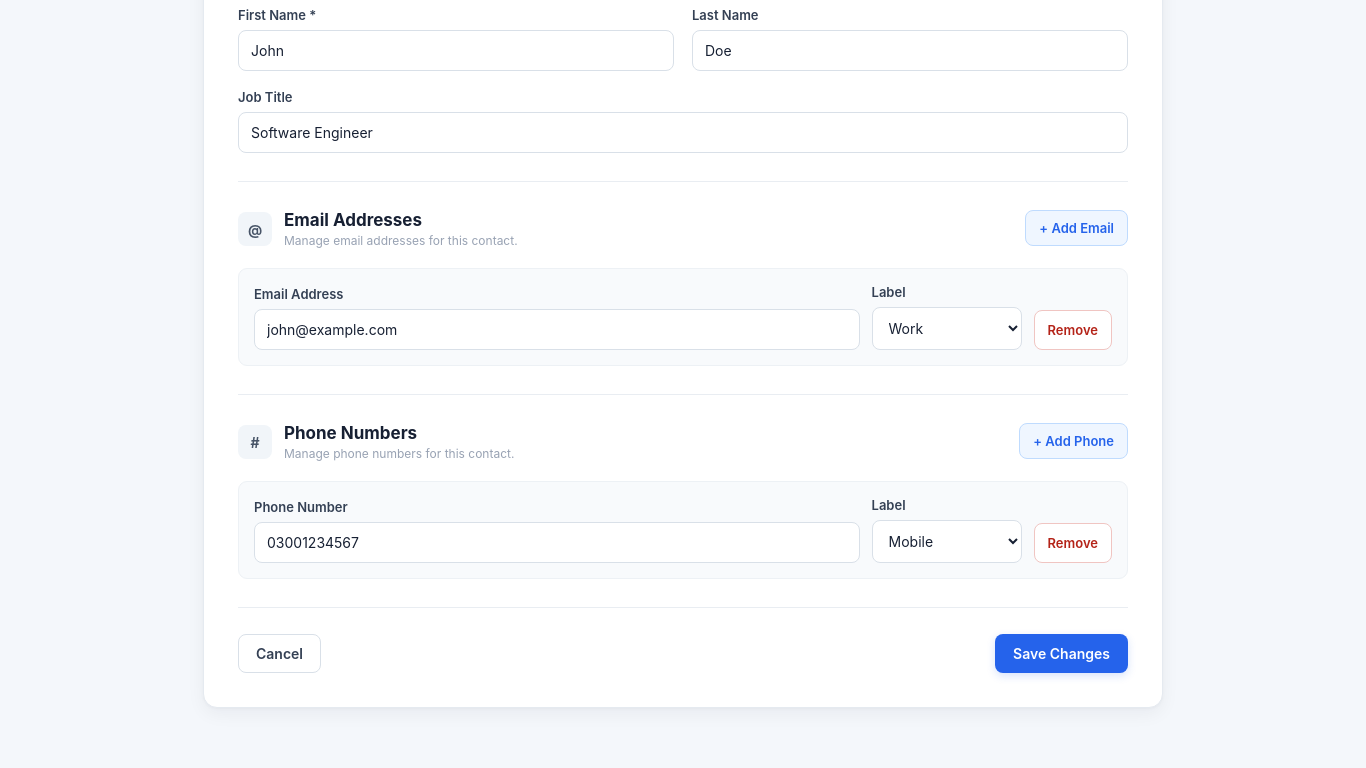
Test: EditContact › handles unauthorized update
The width and height of the screenshot is (1366, 768).
(page scrolled)
Expected: the field showing "John" is shown, [238,30,674,71]
Click the button "Save Changes". click: click(1062, 654)
box: [995,634,1128,673]
(page scrolled)
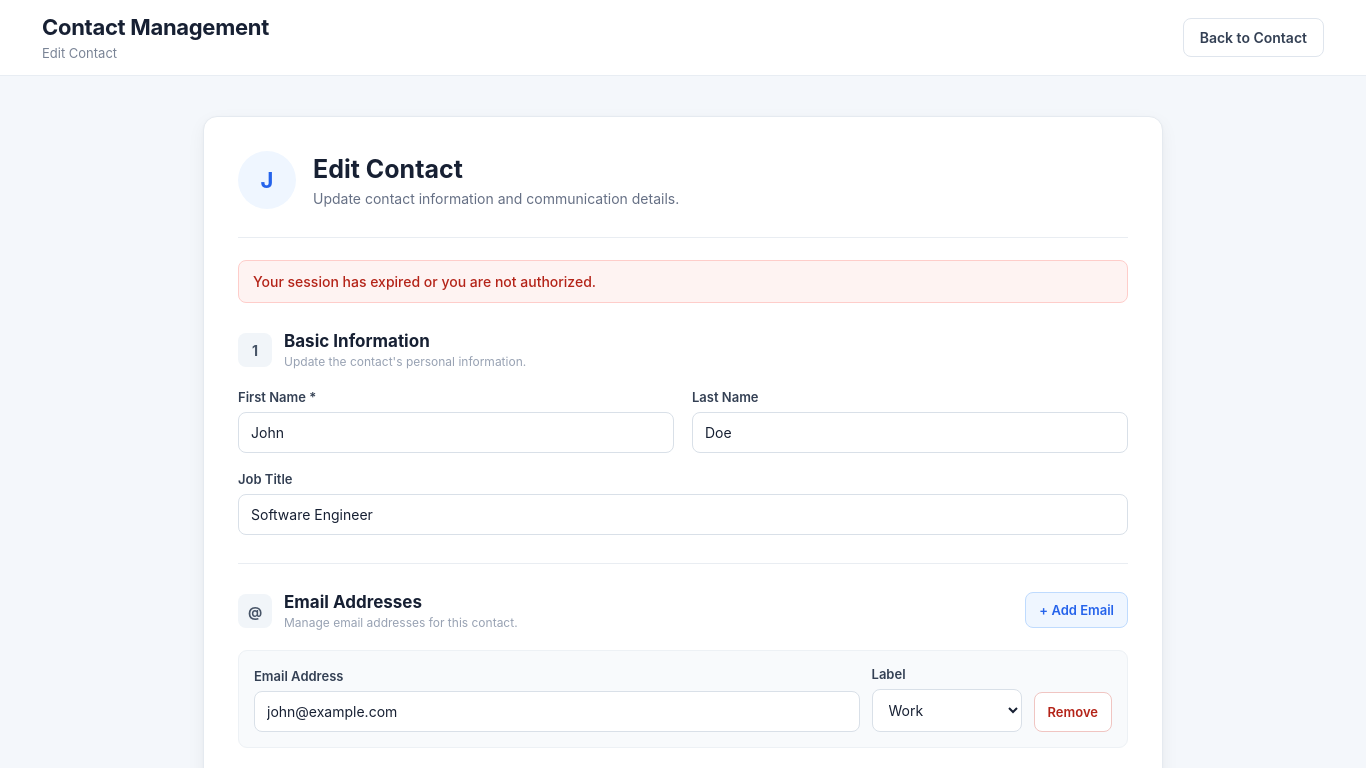
Expected: the text "Your session has expired or you are not authorized." is shown, [238,260,1128,303]
